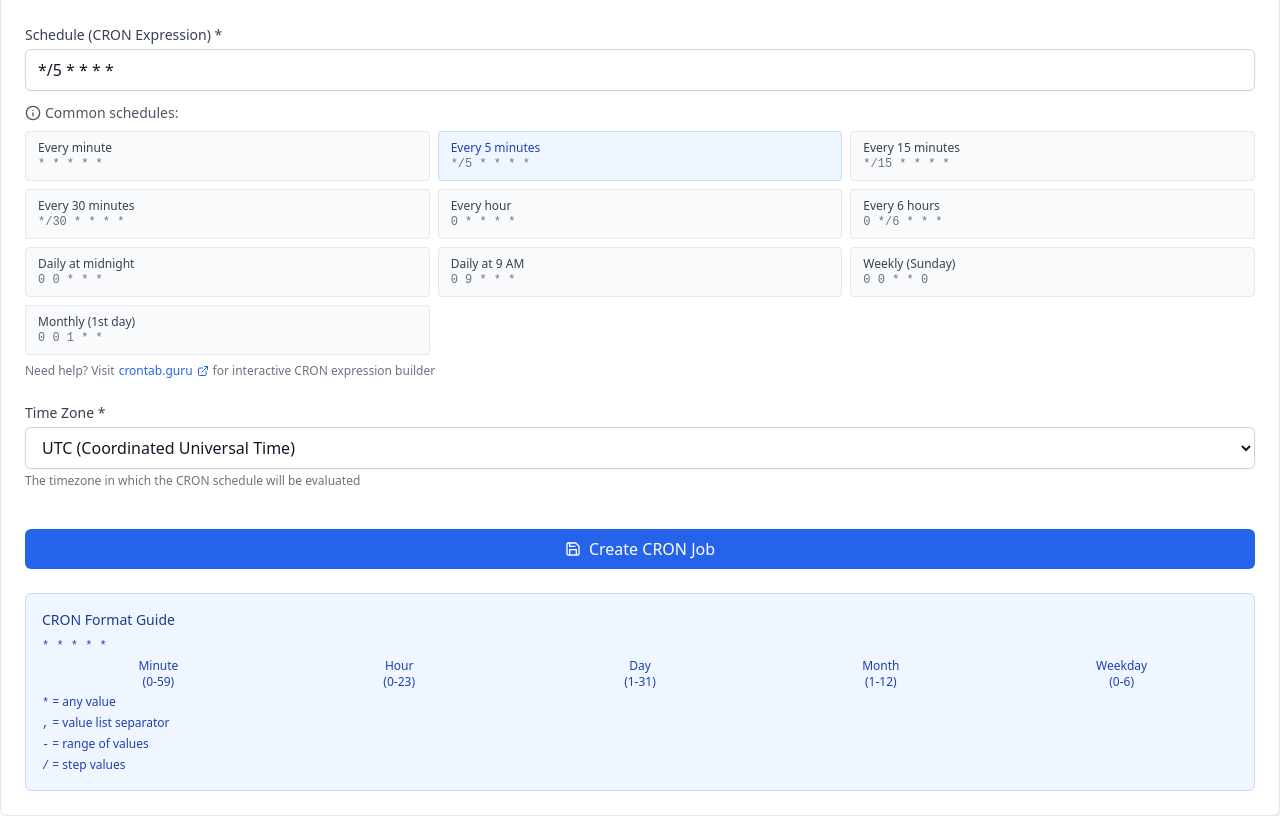
Scenario: CronForm › shows validation errors for empty URI
(page scrolled)
Note: Submit form without filling URI
Click the button "Create CRON Job" at (640, 549), box [25,529,1255,569]
(page scrolled)
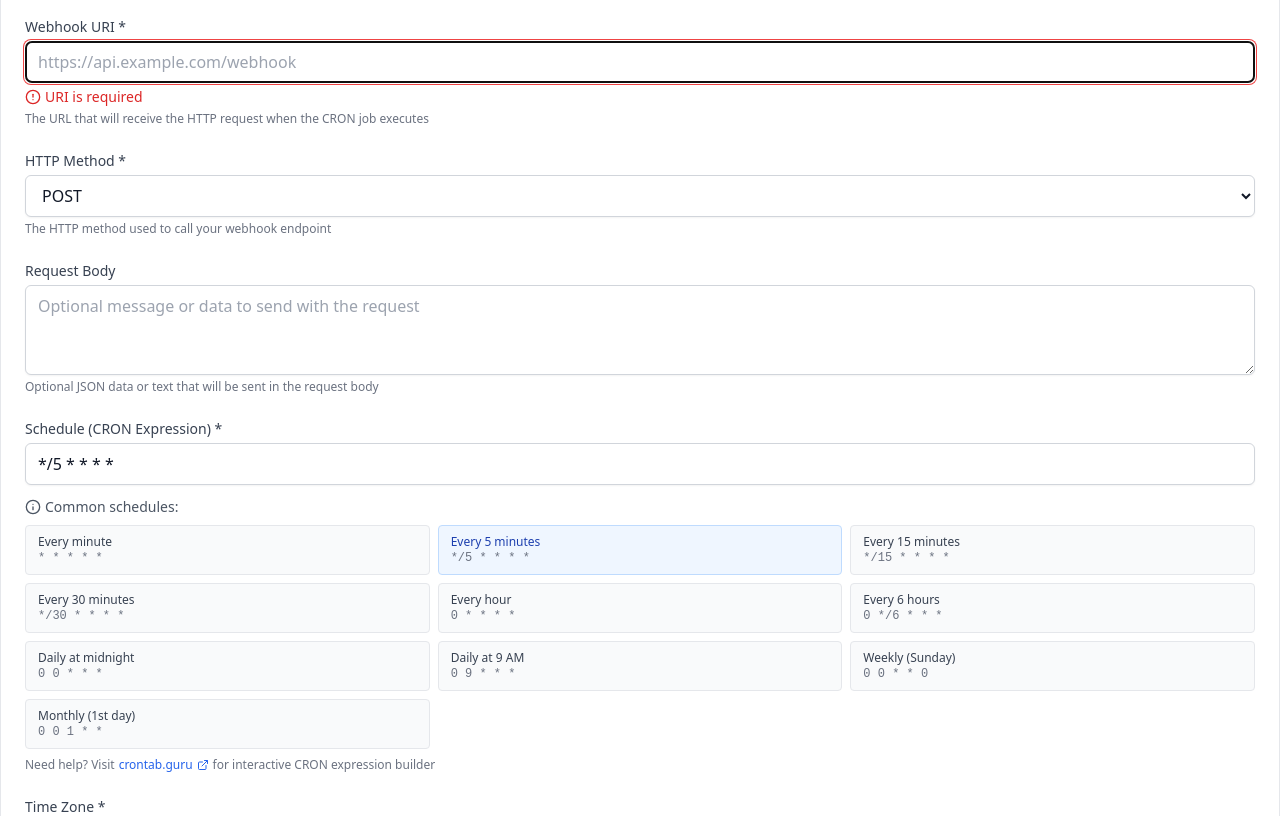
Now the text "URI is required" is shown, box [25,87,143,106]
